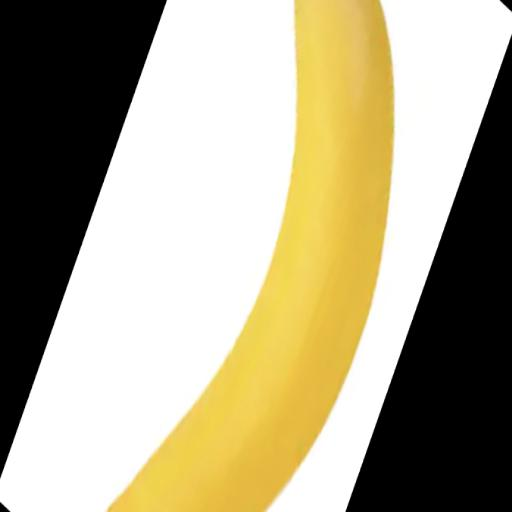banana-ripe: (83, 0, 413, 512)
